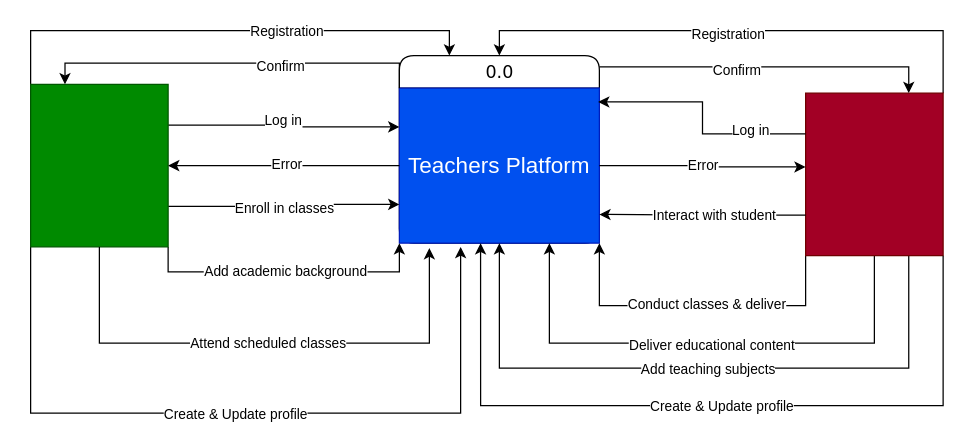
This 975x445 diagram has some shape labels left out. The centre of each missing label's shape, as x and y in pixels:
"Student" goes at (x=98, y=165).
"Teacher" goes at (x=873, y=174).
